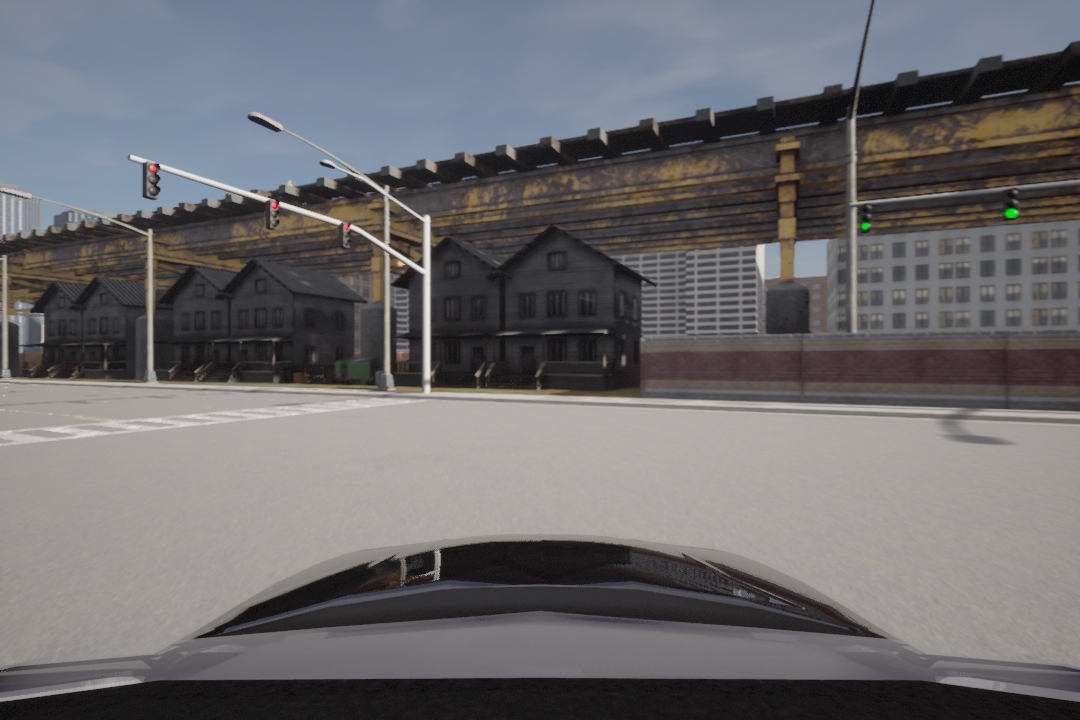TrafficLight: (1000, 184, 1021, 224), (142, 157, 160, 201), (264, 196, 283, 230), (858, 202, 876, 237), (337, 221, 351, 251)
